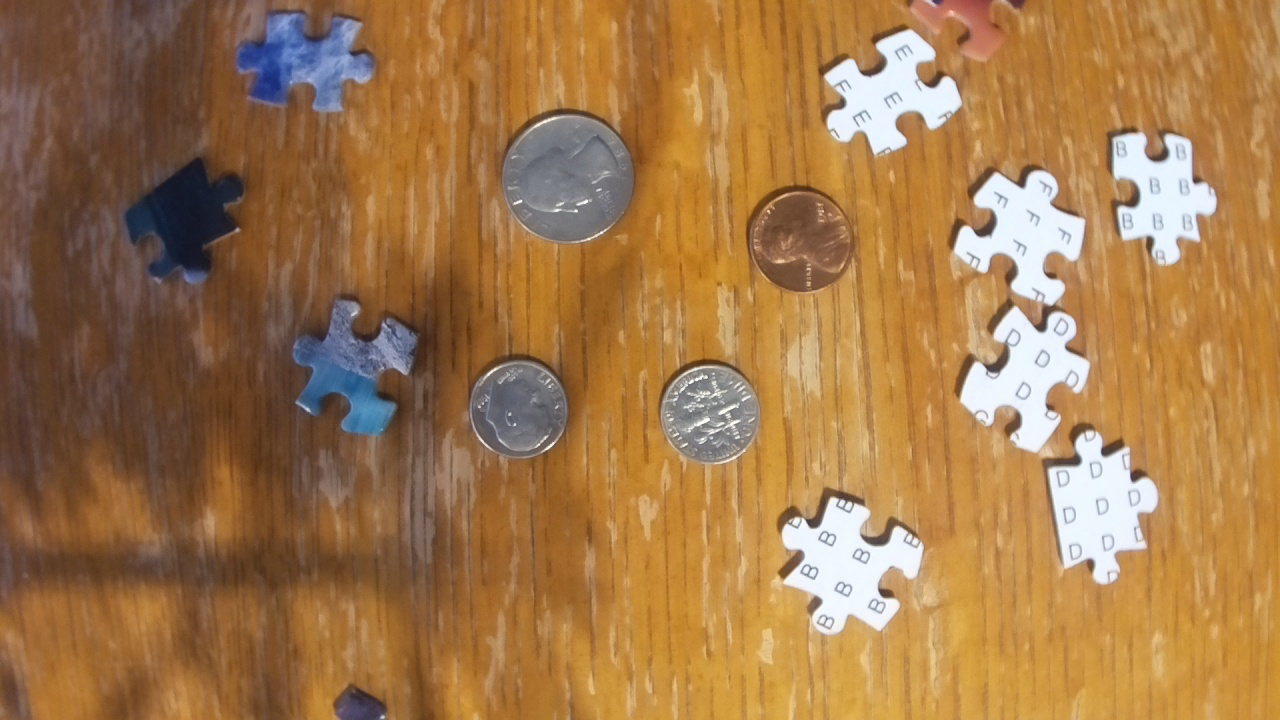dime: (466, 356, 570, 460), (660, 359, 760, 467)
penny: (746, 186, 856, 294)
quarter: (501, 111, 635, 243)
